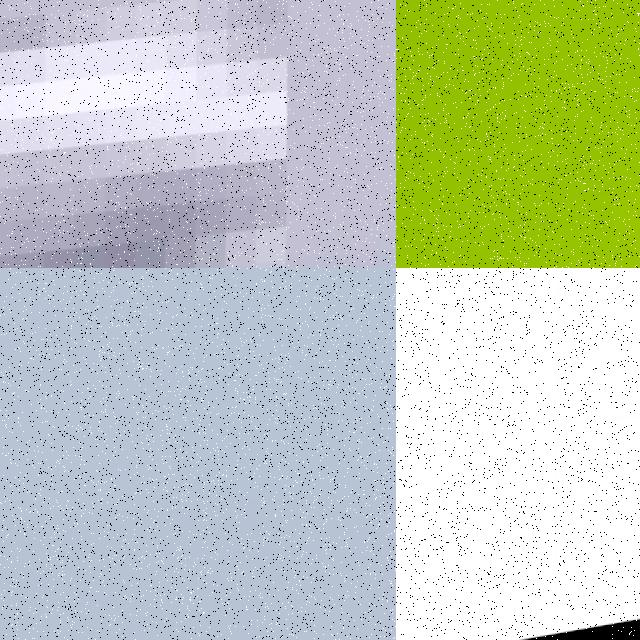0: (0, 0, 396, 268)
drone: (396, 268, 640, 640), (396, 0, 640, 268)
